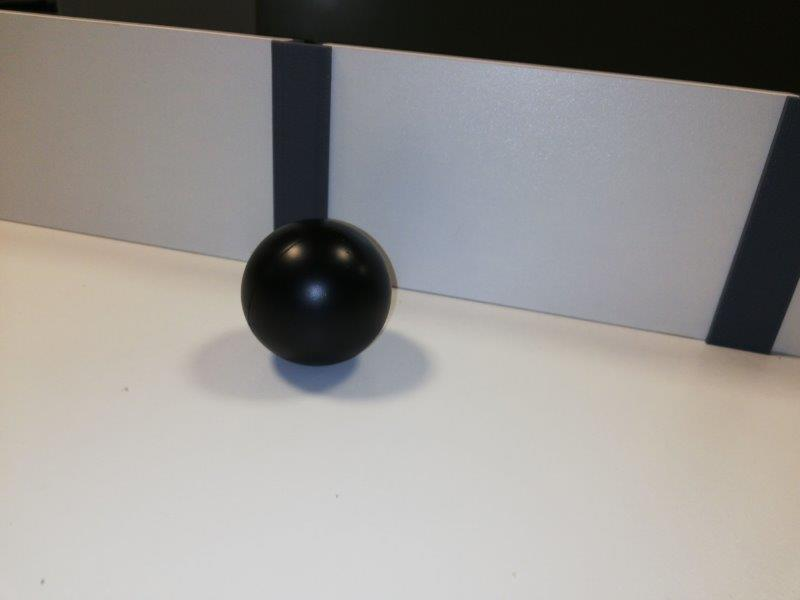nera: (241, 216, 394, 366)
